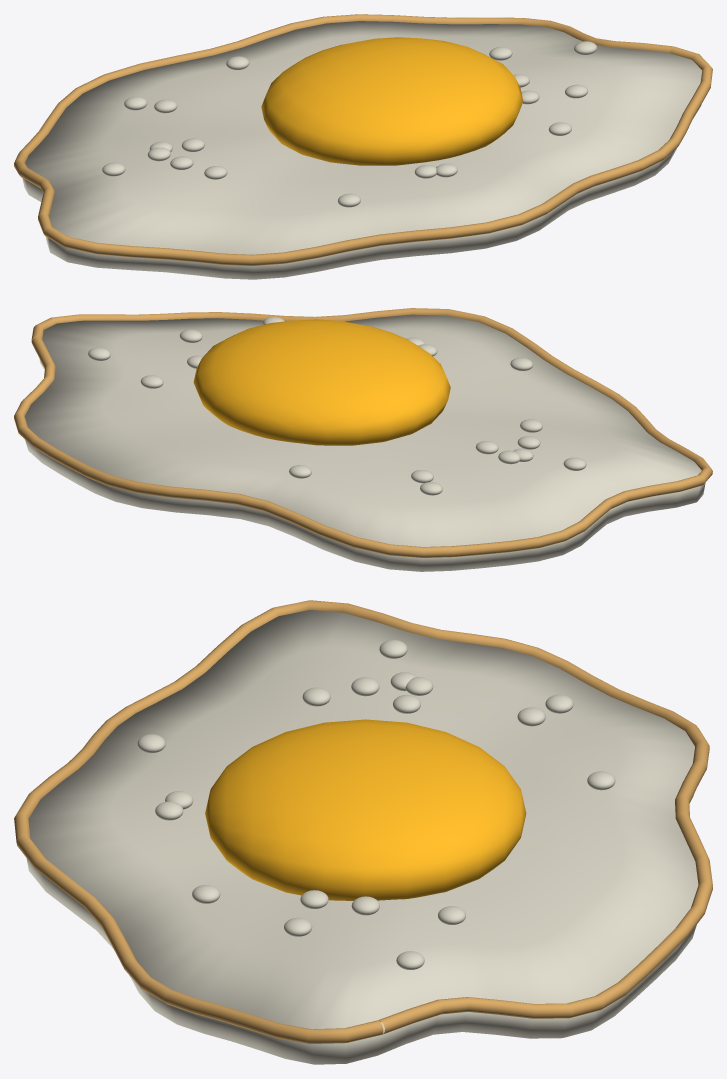
The model's file is egg.glb.
3 views of the same model, one above another, from view 1: azimuth 30°, elevation 25°; view 2: azimuth 150°, elevation 25°; view 3: azimuth 270°, elevation 25° (orthographic). The views are drawn at different scales.
Visible parts, largest first — view 1: Soft folded egg white, Golden yolk, Lacy caramelised edge, Batch Silky egg white; view 2: Soft folded egg white, Golden yolk, Lacy caramelised edge, Batch Silky egg white; view 3: Soft folded egg white, Golden yolk, Lacy caramelised edge, Batch Silky egg white.
Part boxes in pixels (bbox=[...]): Soft folded egg white: bbox=[22, 21, 702, 279]; Golden yolk: bbox=[261, 37, 523, 165]; Lacy caramelised edge: bbox=[14, 14, 712, 265]; Batch Silky egg white: bbox=[102, 41, 597, 207]; Soft folded egg white: bbox=[24, 314, 705, 571]; Golden yolk: bbox=[193, 319, 450, 445]; Lacy caramelised edge: bbox=[14, 308, 712, 557]; Batch Silky egg white: bbox=[88, 317, 586, 495]; Soft folded egg white: bbox=[26, 610, 698, 1064]; Golden yolk: bbox=[205, 719, 526, 900]; Lacy caramelised edge: bbox=[14, 600, 712, 1044]; Batch Silky egg white: bbox=[137, 640, 615, 969].
Bounding box in the file's own units: 1.09 × 0.156 × 0.7396.
